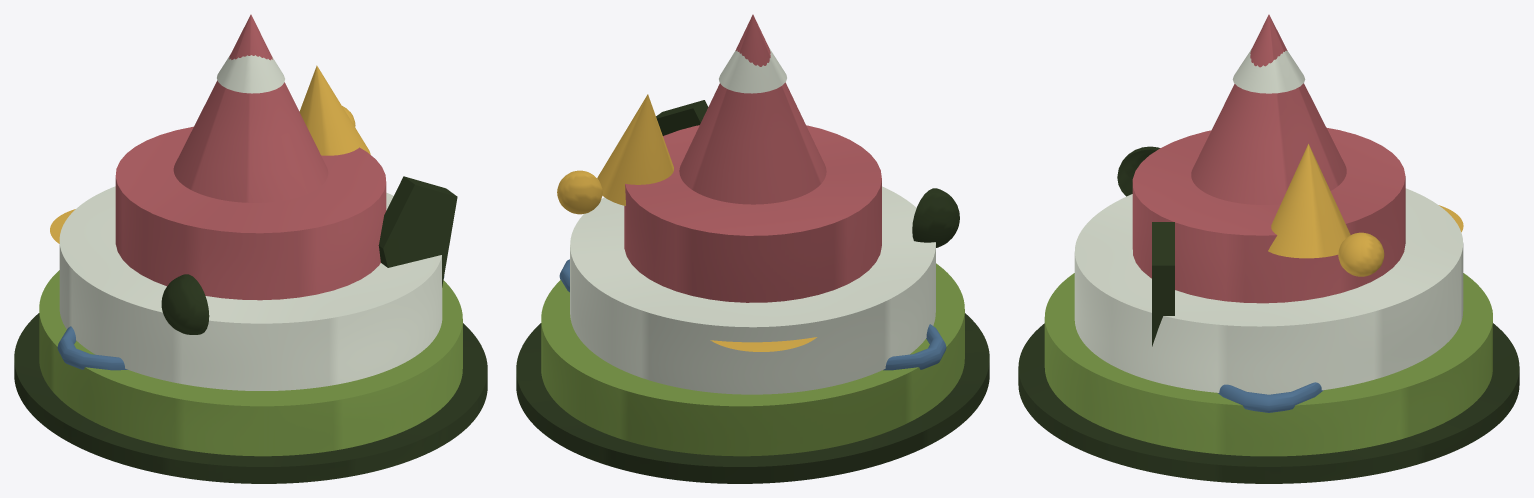
File: 0779_天气与气候图鉴_亚马逊雨林.glb
3 views of the same model, side by side, from view 1: azimuth 30°, elevation 25°; view 2: azimuth 150°, elevation 25°; view 3: azimuth 270°, elevation 25° (orthographic).
Visible parts, largest first — view 1: card_0779; view 2: card_0779; view 3: card_0779.
Part boxes in pixels (left/top/right/bottom): card_0779: left=14, top=14, right=487, bottom=483; card_0779: left=516, top=14, right=989, bottom=483; card_0779: left=1018, top=14, right=1519, bottom=483.
Size of the model in its own units: 1.15 by 1 by 1.23.
